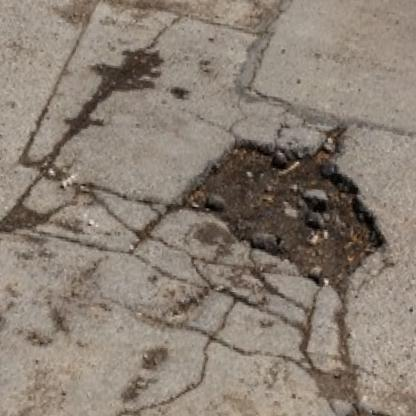pothole: (164, 106, 399, 296)
